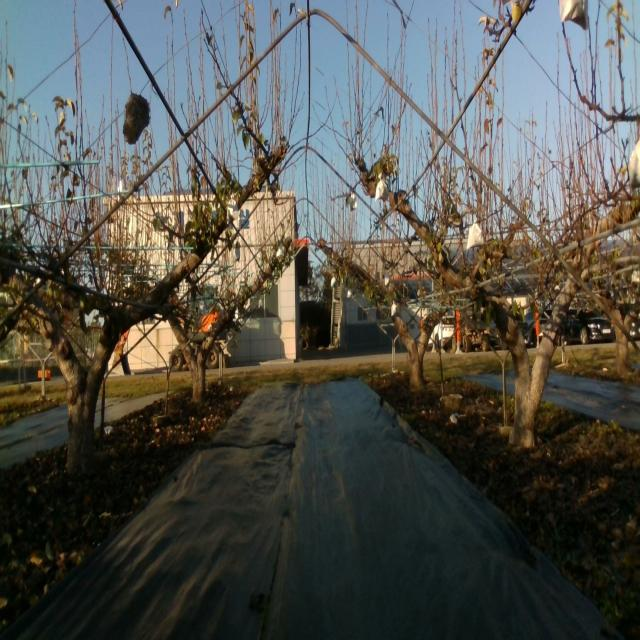pearbags: (466, 216, 484, 254), (226, 194, 240, 222), (374, 173, 388, 201)
